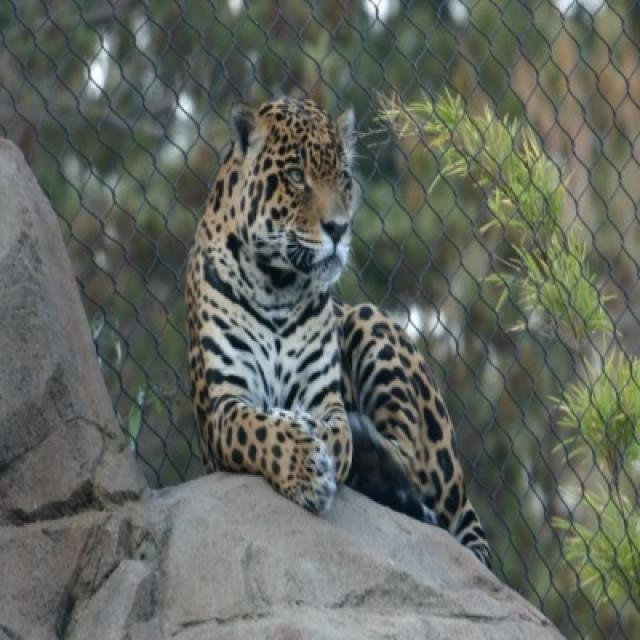not_pig: (182, 93, 494, 571)
